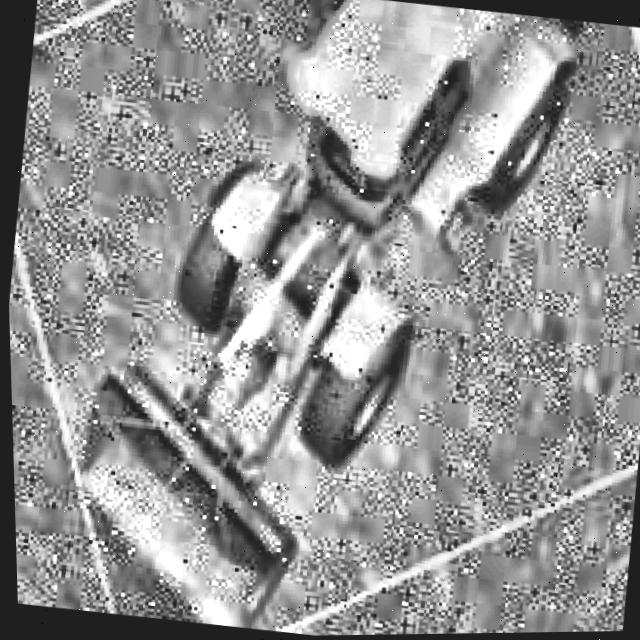buldozerpayloadergrader: (9, 0, 640, 640)
